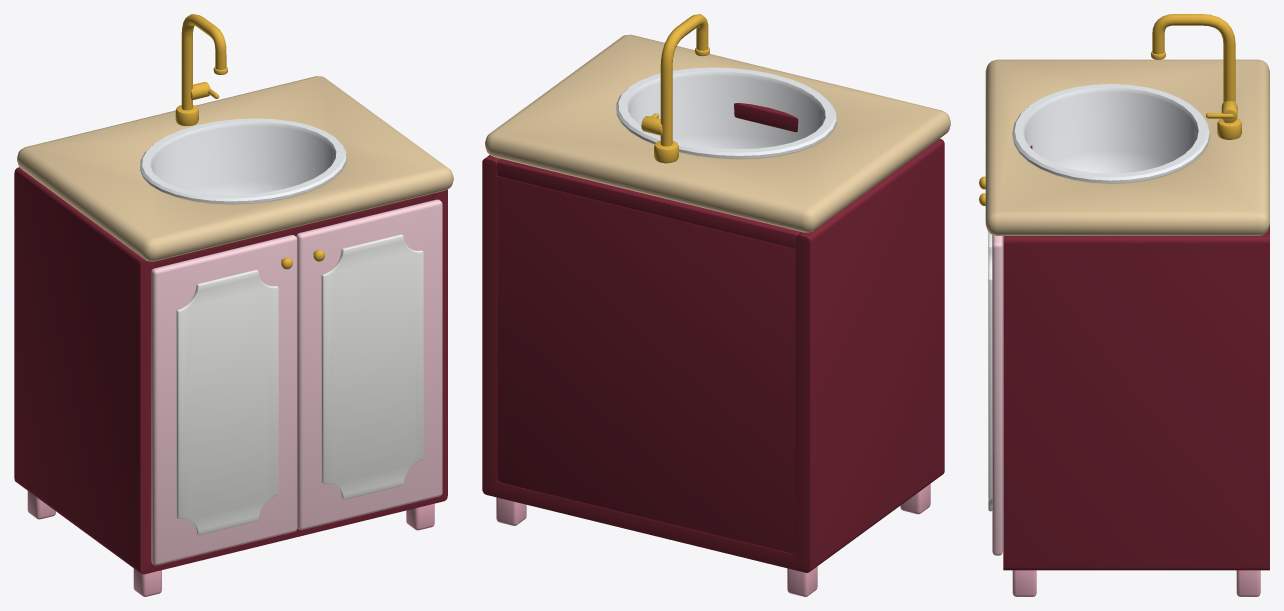
The model's file is armario_cozinha_pia_classica_vinho.glb.
3 renders of one model, left to right at view 1: azimuth 30°, elevation 25°; view 2: azimuth 150°, elevation 25°; view 3: azimuth 270°, elevation 25°, orthographic. The views are drawn at different scales.
Parts seen in each view (by area): view 1: armario_cozinha_pia_classica_vinho, porta_1, porta_2; view 2: armario_cozinha_pia_classica_vinho; view 3: armario_cozinha_pia_classica_vinho, porta_2.
Boxes of the visible parts, x1=… form: armario_cozinha_pia_classica_vinho: x1=14, y1=14, x2=453, y2=596; porta_1: x1=151, y1=235, x2=297, y2=565; porta_2: x1=296, y1=199, x2=442, y2=529; armario_cozinha_pia_classica_vinho: x1=482, y1=14, x2=950, y2=596; armario_cozinha_pia_classica_vinho: x1=985, y1=14, x2=1269, y2=596; porta_2: x1=979, y1=193, x2=1002, y2=555.
Bounding box in the file's own units: 0.798 × 1.18 × 0.6131.
1 material, 1 textured.
